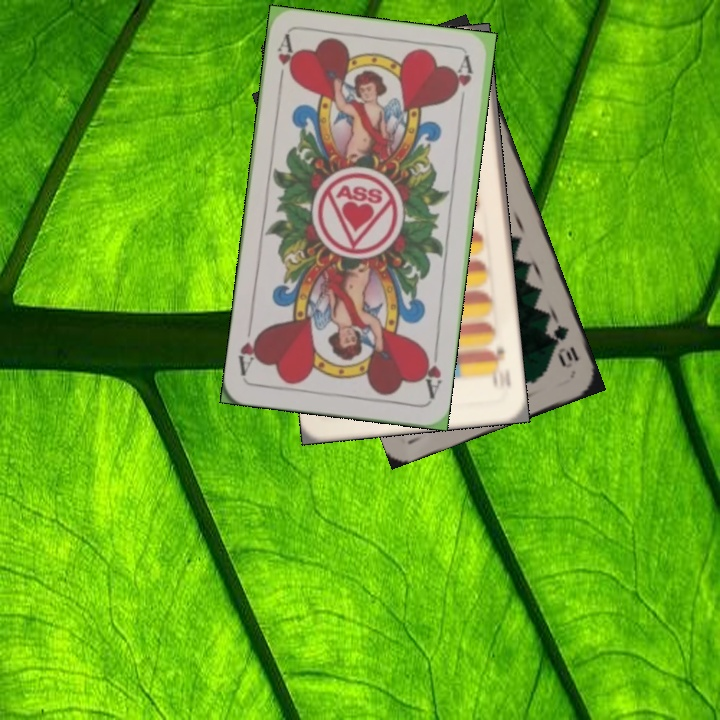E10: (486, 341, 508, 391)
G10: (549, 321, 582, 371)
HA: (417, 343, 445, 401), (273, 32, 298, 91)
